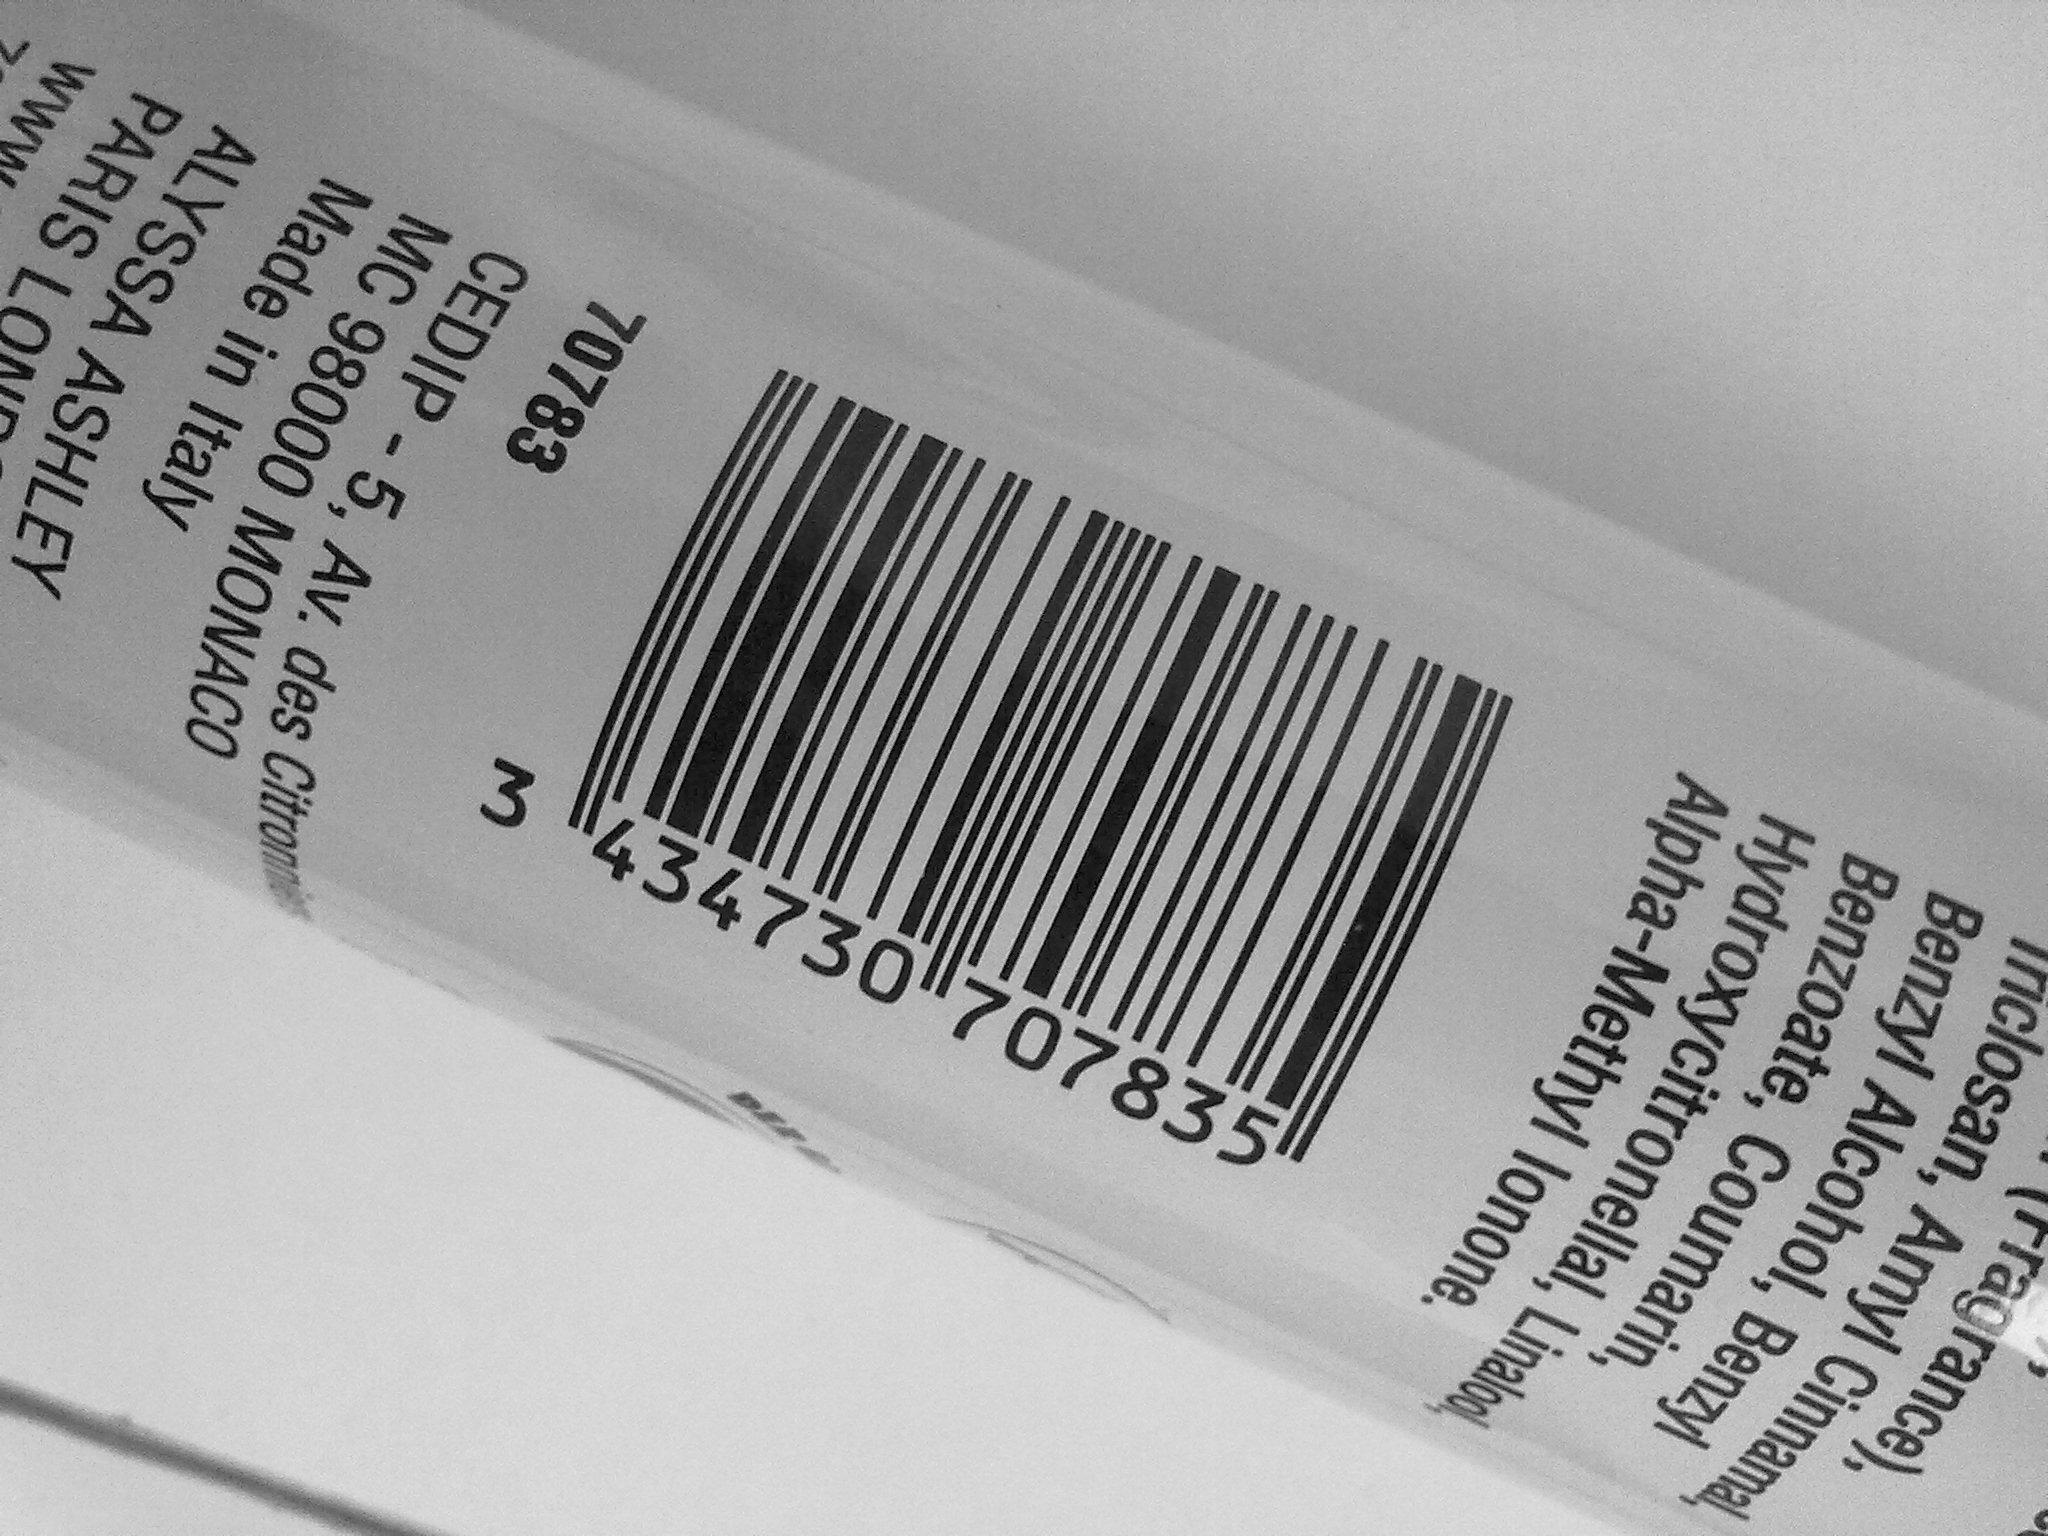Barcode: (520, 295, 1518, 1151)
